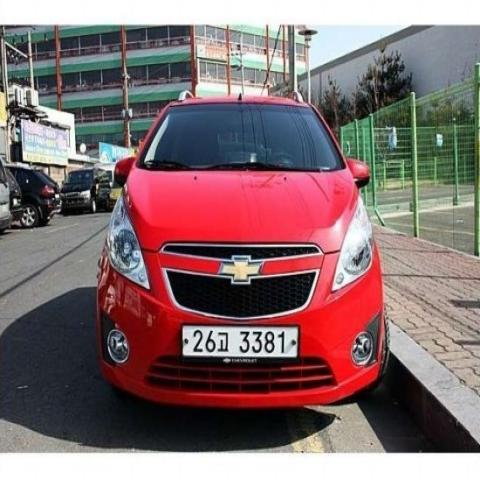LP: (177, 320, 302, 365)
